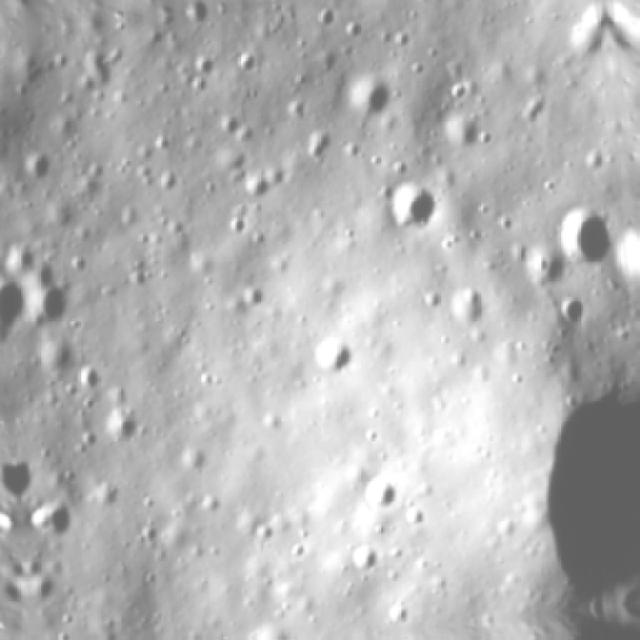crater: (509, 365, 640, 617), (552, 202, 616, 273), (382, 181, 453, 239), (302, 331, 360, 394), (341, 69, 405, 125), (0, 268, 43, 348), (27, 278, 84, 334), (24, 497, 81, 551), (445, 280, 492, 337), (562, 13, 612, 65), (103, 401, 149, 454), (339, 538, 390, 584), (608, 223, 640, 295), (441, 114, 485, 164), (362, 471, 404, 518), (554, 292, 592, 337), (320, 0, 405, 20), (27, 572, 64, 610), (400, 498, 435, 536), (182, 10, 220, 42), (452, 621, 488, 627), (0, 33, 18, 40)
